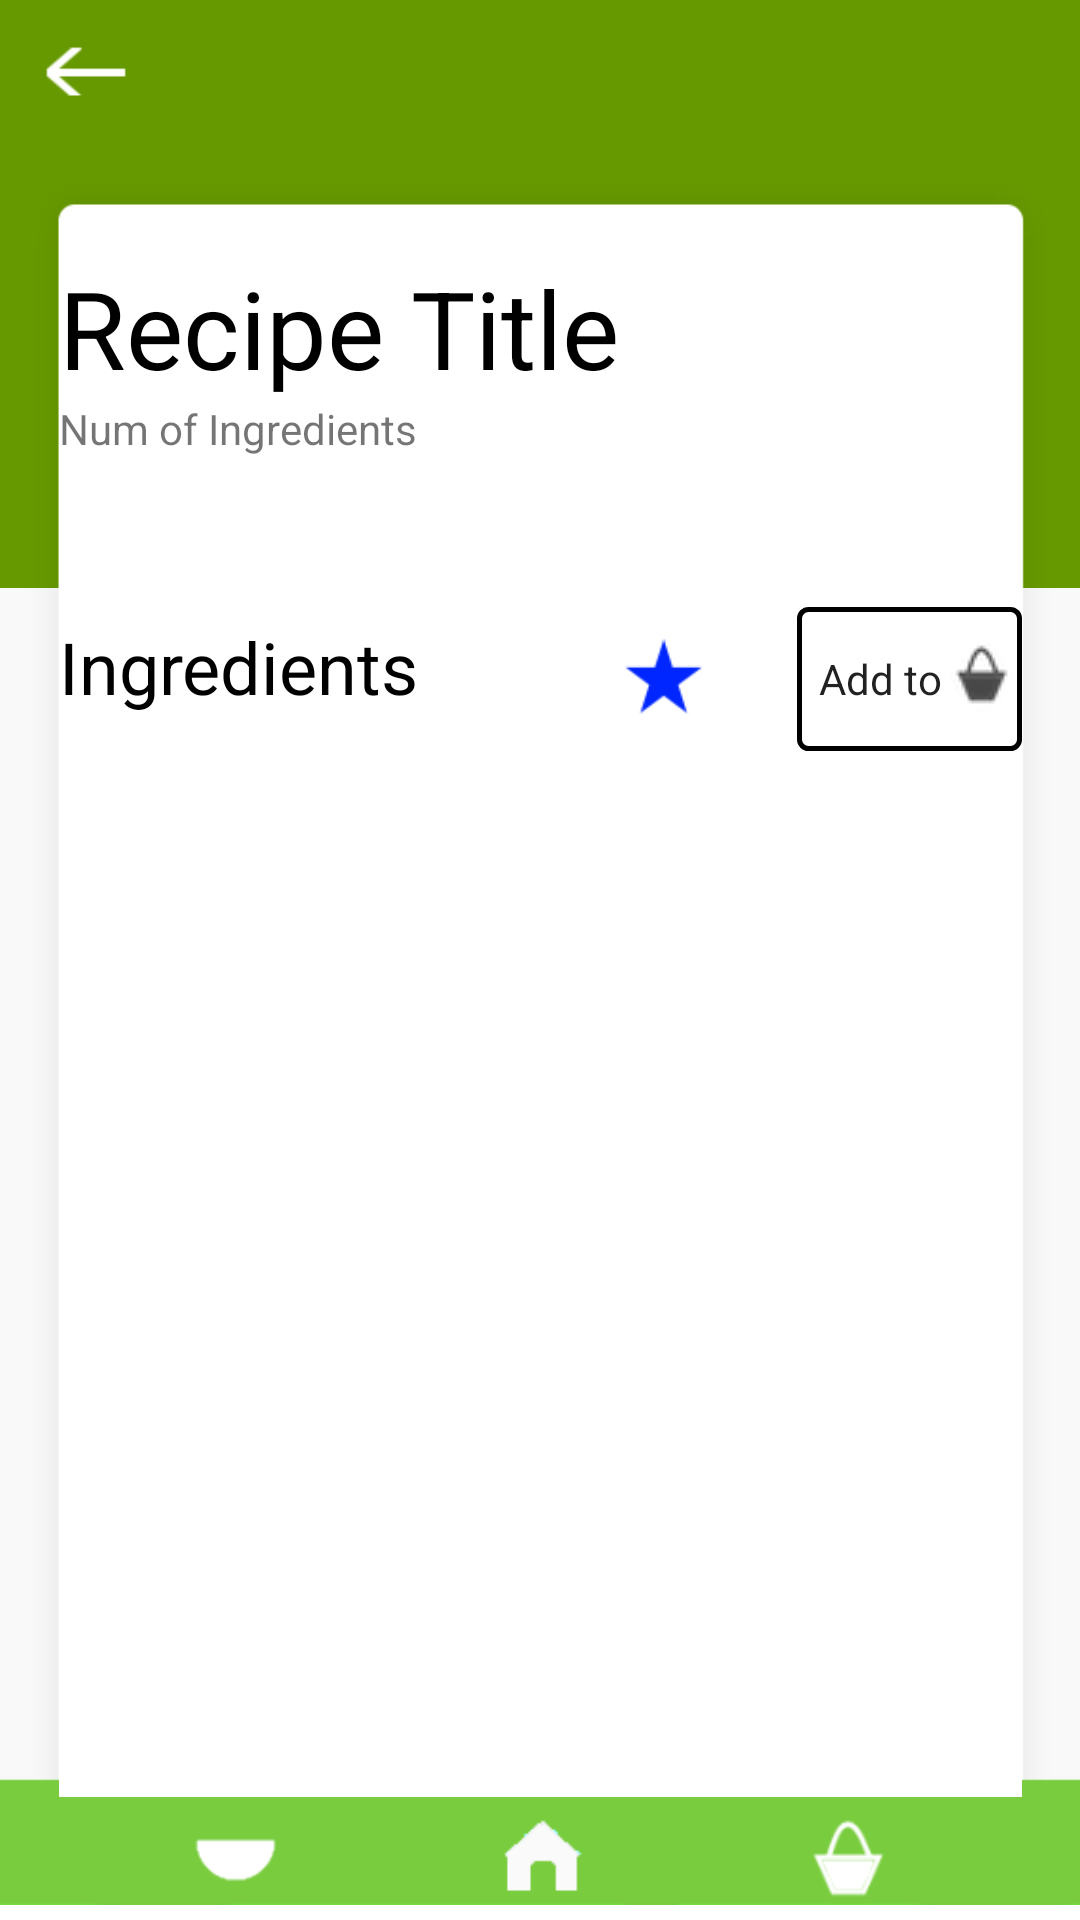

Icons on this 1080×1920 Android screen, each with its box as box=[x1, y1, x2, y2]:
backarrow: box=[46, 47, 126, 96]
staricon: box=[626, 639, 702, 713]
